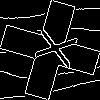X: (25, 25, 78, 69)
